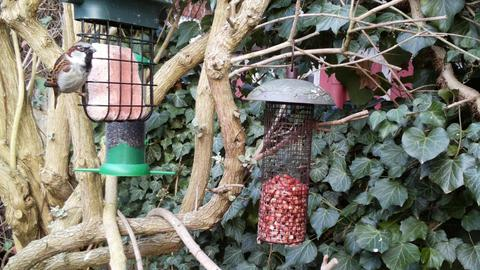sparrow: (43, 42, 98, 110)
